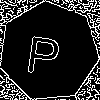P: (24, 26, 64, 76)
